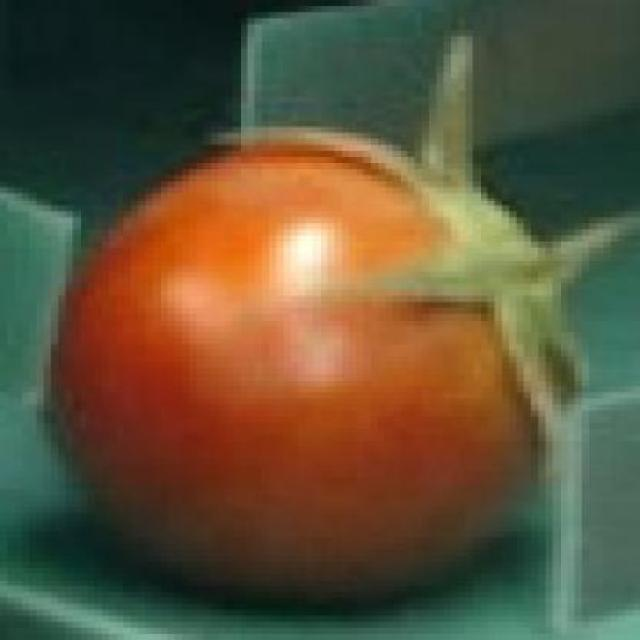tomato: (52, 146, 541, 600)
